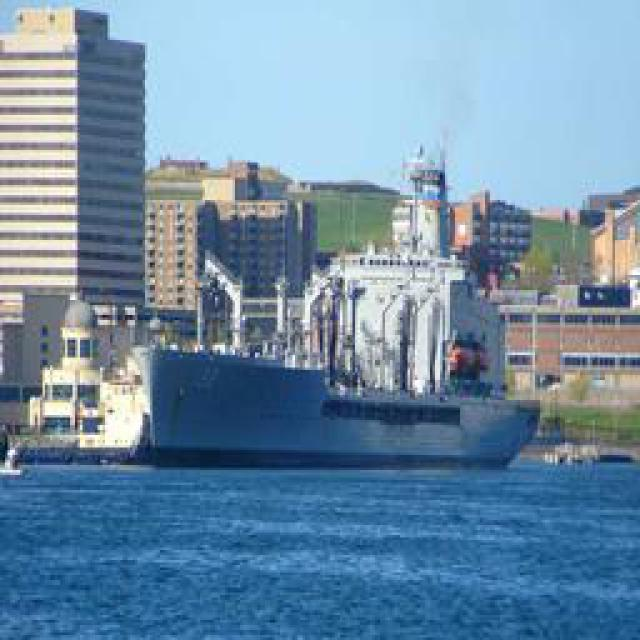Ship: (140, 352, 548, 470)
